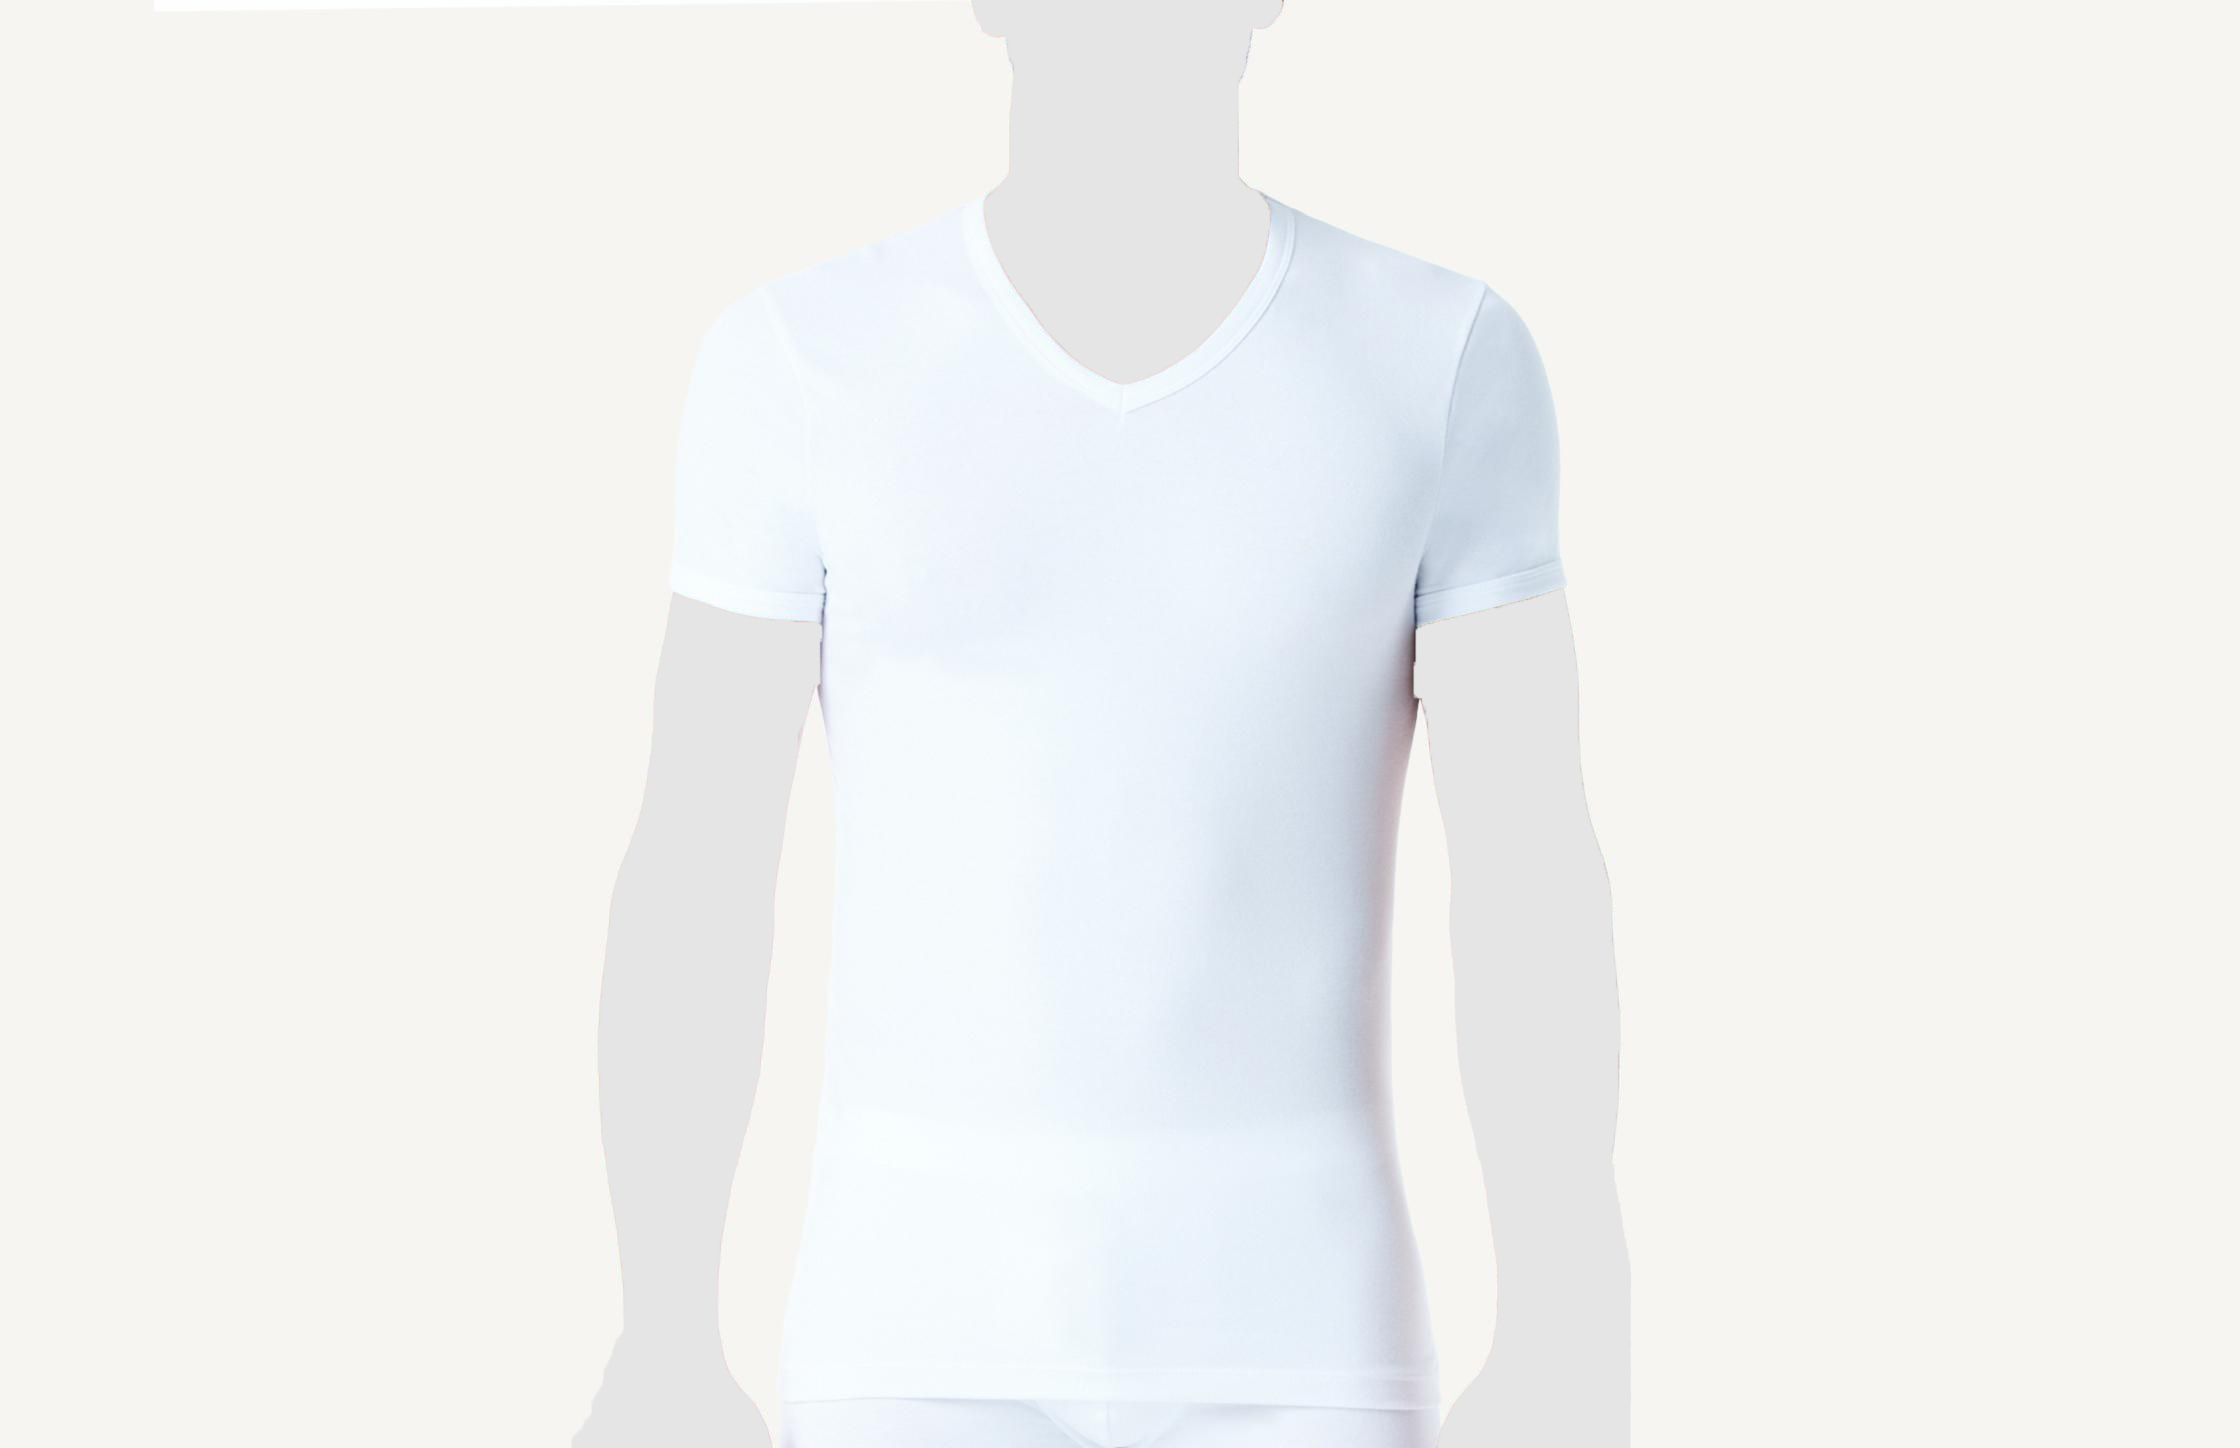teeshirt: (647, 188, 1584, 1410)
